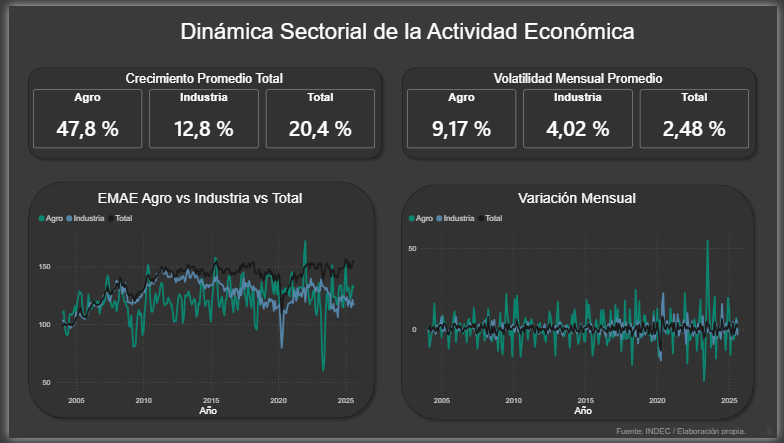

The page's visual inventory and layout, read from the dashboard file:
{"tool":"powerbi","page":{"name":"Pág 1 - Estructura","canvas":[1280,720],"ordinal":0},"visuals":[{"type":"group","id":"g1","title":"Fondo","box":[22.5,92.5,1230,604.2],"z":0},{"type":"shape","box":[22.5,282.5,595,412.5],"z":0,"group":"g1"},{"type":"shape","box":[643.3,286.7,605,410],"z":1000,"group":"g1"},{"type":"lineChart","title":"Variación Mensual","fields":{"Y":["Sum(dataset_mensual_emae.var_mensual_agro)","Sum(dataset_mensual_emae.var_mensual_industria)","Sum(dataset_mensual_emae.var_mensual_total)"],"Category":["dataset_mensual_emae.fecha.Variación.Jerarquía de fechas.Año","dataset_mensual_emae.fecha.Variación.Jerarquía de fechas.Trimestre","dataset_mensual_emae.fecha.Variación.Jerarquía de fechas.Mes","dataset_mensual_emae.fecha.Variación.Jerarquía de fechas.Día"]},"box":[660,306.7,573.3,381.7],"z":1000},{"type":"textbox","box":[206.6,16.8,915.5,55.4],"z":2000},{"type":"shape","box":[22.5,92.5,607.5,170],"z":2000,"group":"g1"},{"type":"shape","box":[645,92.5,607.5,170],"z":3000,"group":"g1"},{"type":"cardVisual","title":"Crecimiento Promedio Total","fields":{"Rows":["pagina1_tabla_estructural.sector"],"Data":["Sum(pagina1_tabla_estructural.crecimiento_promedio_mensual)"]},"box":[15,110,620,132.5],"z":3000},{"type":"lineChart","title":"EMAE Agro vs Industria vs Total","fields":{"Y":["Sum(dataset_mensual_emae.emae_agro)","Sum(dataset_mensual_emae.emae_industria)","Sum(dataset_mensual_emae.emae_total)"],"Category":["dataset_mensual_emae.fecha.Variación.Jerarquía de fechas.Año","dataset_mensual_emae.fecha.Variación.Jerarquía de fechas.Trimestre","dataset_mensual_emae.fecha.Variación.Jerarquía de fechas.Mes","dataset_mensual_emae.fecha.Variación.Jerarquía de fechas.Día"]},"box":[43.3,306.7,550,381.7],"z":4000},{"type":"cardVisual","title":"Volatilidad Mensual Promedio","fields":{"Rows":["pagina1_tabla_estructural.sector"],"Data":["Sum(pagina1_tabla_estructural.volatilidad_mensual_corregida)"]},"box":[637.5,110,620,132.5],"z":5000},{"type":"textbox","box":[971.7,696.7,305,23.3],"z":6000}]}

Visuals, with their boxes in screenshot pixels (x1, y1, x2, y2), scaled from the page's 1280x720 canvas onto the 784x443 screenshot:
"Fondo" group: rect(14, 57, 767, 429)
shape: rect(14, 174, 378, 428)
shape: rect(394, 176, 765, 429)
"Variación Mensual" lineChart: rect(404, 189, 755, 424)
textbox: rect(127, 10, 687, 44)
shape: rect(14, 57, 386, 162)
shape: rect(395, 57, 767, 162)
"Crecimiento Promedio Total" cardVisual: rect(9, 68, 389, 149)
"EMAE Agro vs Industria vs Total" lineChart: rect(27, 189, 363, 424)
"Volatilidad Mensual Promedio" cardVisual: rect(390, 68, 770, 149)
textbox: rect(595, 429, 782, 442)
